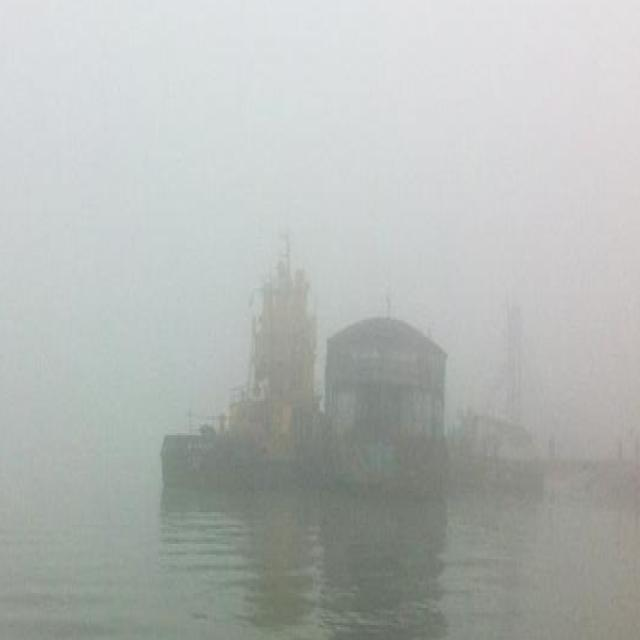fishing boat: (163, 244, 542, 505)
